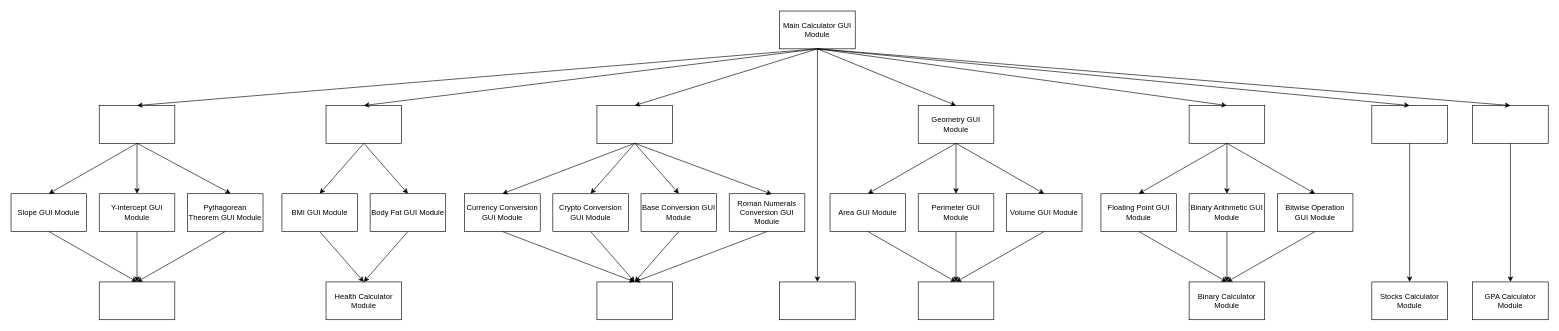
This 1559x331 diagram has some shape labels left out. The box of each missing label's shape, as (x1, y1, x2, y2) in pixels:
Algebra Calculator Module: (99, 281, 175, 320)
Algebra GUI Module: (99, 105, 175, 143)
Binary GUI Module: (1188, 105, 1265, 143)
Conversion GUI Module: (596, 105, 673, 143)
Conversion Module: (596, 281, 673, 320)
Geometry Module: (918, 281, 994, 320)
GPA GUI Module: (1472, 105, 1548, 143)
Health GUI Module: (325, 105, 402, 143)
Main Calculator: (779, 281, 855, 320)
Stocks GUI Module: (1371, 105, 1447, 143)
